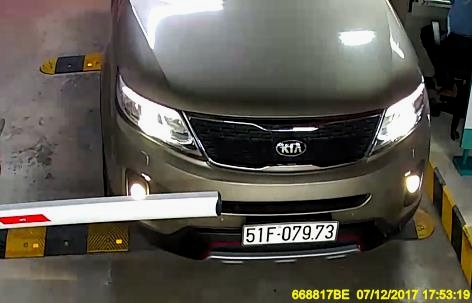plate: (240, 218, 340, 248)
